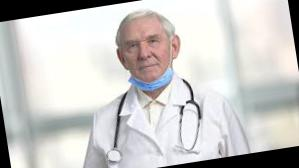mask_weared_incorrect: (122, 30, 178, 94)
